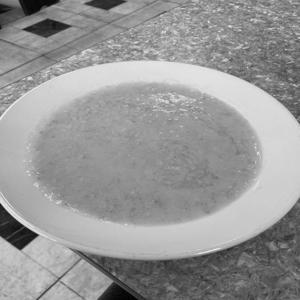porridge: (34, 67, 266, 245)
